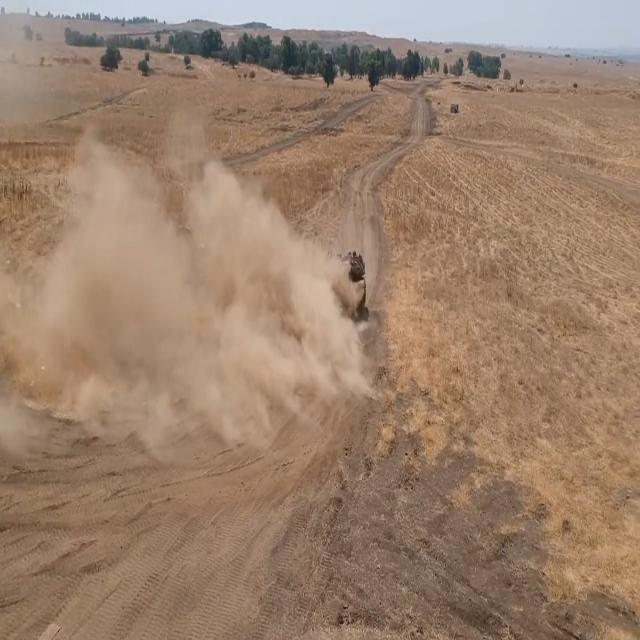tank: (320, 244, 370, 329)
